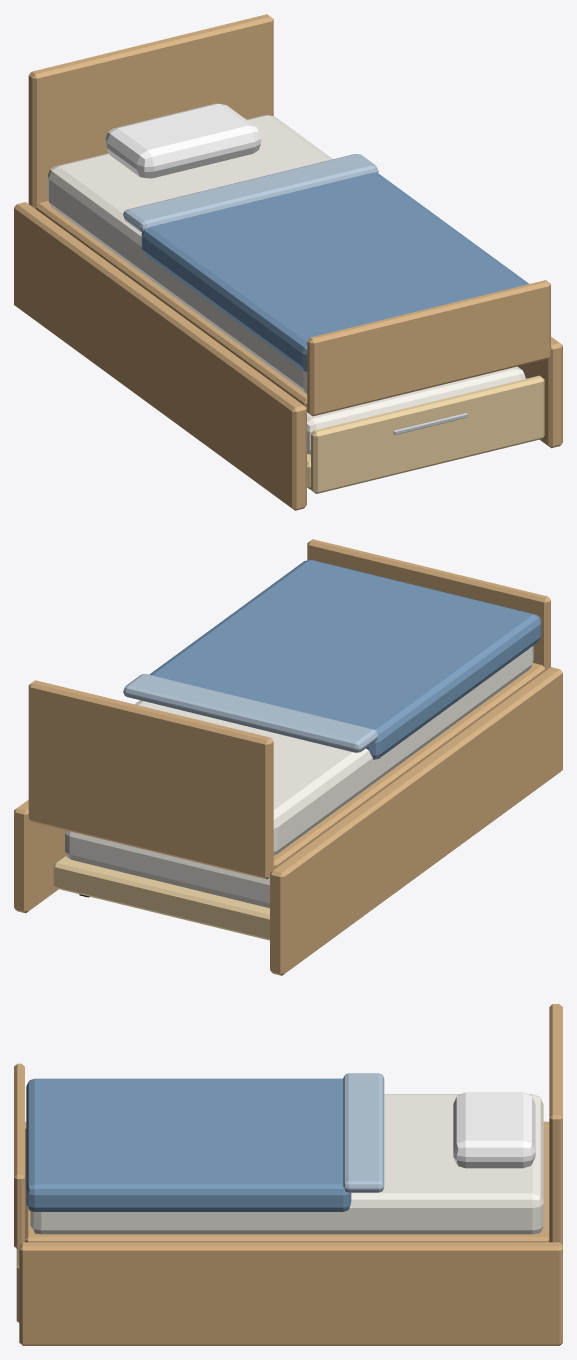
Rendered from trundle_bed.glb.
3 views of the same model, one above another, from view 1: azimuth 30°, elevation 25°; view 2: azimuth 150°, elevation 25°; view 3: azimuth 270°, elevation 25° (orthographic). The views are drawn at different scales.
Visible parts, largest first — view 1: trundle_bed_Body, trundle_bed_Trundle; view 2: trundle_bed_Body, trundle_bed_Trundle; view 3: trundle_bed_Body.
Part boxes in pixels (x1,y1,x2,y2): trundle_bed_Body: (14,14,562,510); trundle_bed_Trundle: (307,366,544,493); trundle_bed_Body: (14,539,562,975); trundle_bed_Trundle: (53,830,269,940); trundle_bed_Body: (14,1004,562,1345).
Size of the model in its own units: 1.1 by 0.9 by 2.
